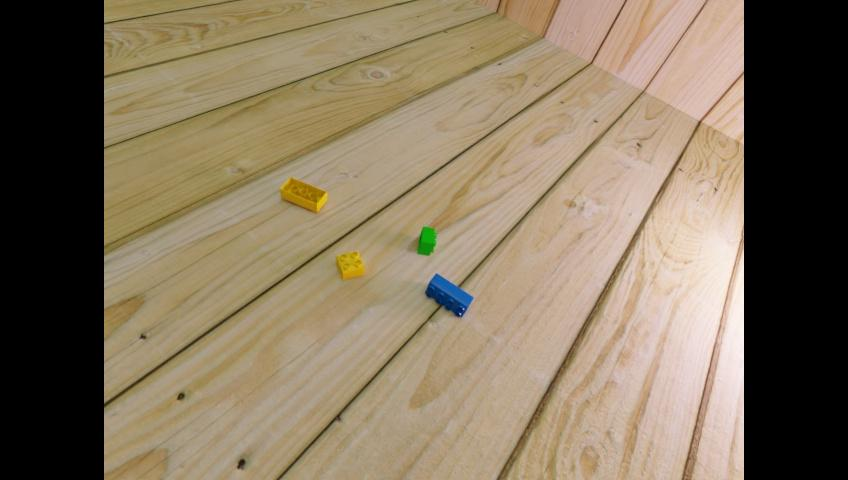2x2_green: (417, 225, 436, 255)
2x2_yellow: (337, 251, 364, 281)
4x2_blue: (425, 272, 473, 317)
4x2_yellow: (280, 177, 327, 213)
